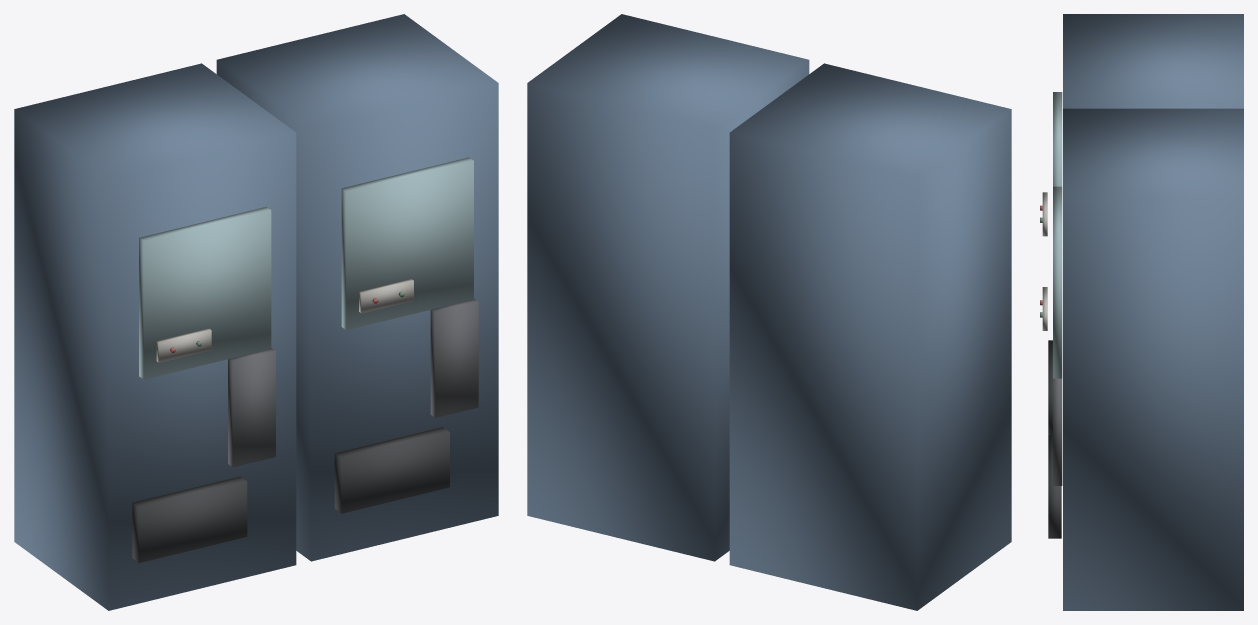
The model's file is drink_vending_machine__cluster.glb.
3 renders of one model, left to right at view 1: azimuth 30°, elevation 25°; view 2: azimuth 150°, elevation 25°; view 3: azimuth 270°, elevation 25°, orthographic. The views are drawn at different scales.
Parts seen in each view (by area): view 1: world; view 2: world; view 3: world.
Part boxes in pixels (left/top/right/bottom): world: left=14, top=14, right=498, bottom=610; world: left=527, top=14, right=1011, bottom=610; world: left=1040, top=14, right=1243, bottom=610.
Bounding box in the file's own units: 1.62 × 1.72 × 0.766.
